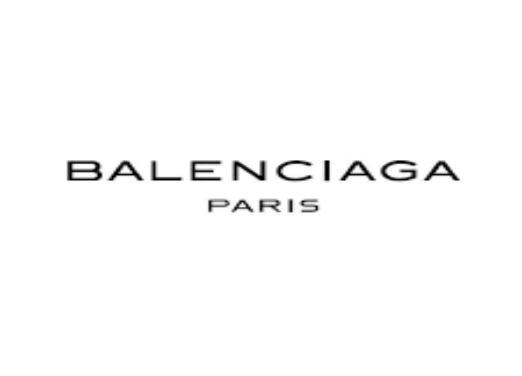BALENCIAGA: (64, 157, 461, 183)
